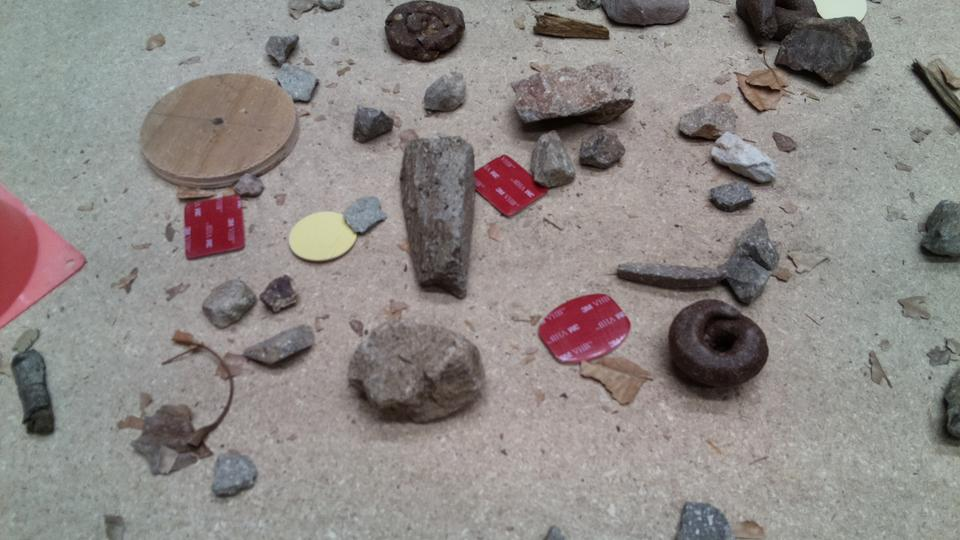poop: (666, 298, 772, 390), (382, 1, 466, 65), (734, 1, 824, 46)
